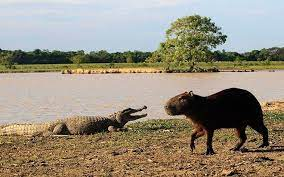capivara: (163, 88, 271, 152)
